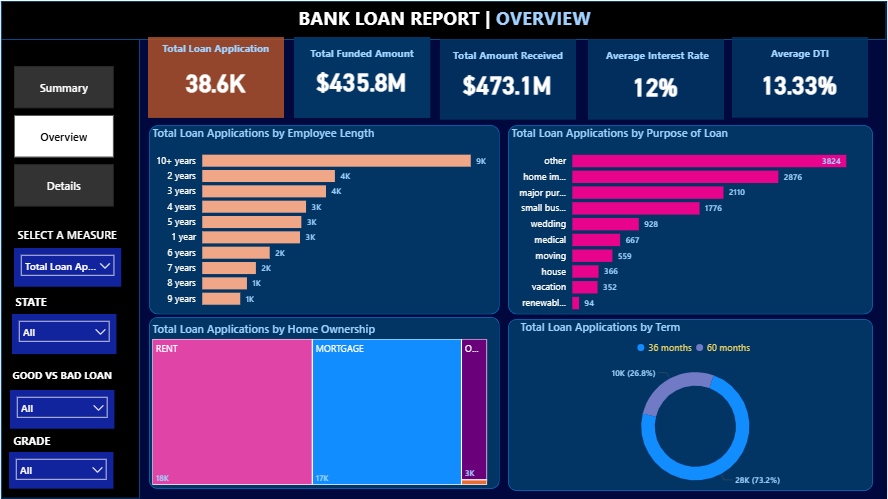

The page's visual inventory and layout, read from the dashboard file:
{"tool":"powerbi","page":{"name":"Overview","canvas":[1280,720],"ordinal":1},"visuals":[{"type":"shape","box":[1057,52.8,196.7,116.7],"z":0,"group":"g5"},{"type":"shape","box":[634.9,54.5,196.7,116.7],"z":0,"group":"g3"},{"type":"shape","box":[849.4,54.5,196.7,116.7],"z":0,"group":"g4"},{"type":"shape","box":[733.6,459.6,527.7,248.5],"z":0},{"type":"shape","box":[0,52.8,201,667.2],"z":1000},{"type":"shape","box":[423.8,52.8,196.7,116.7],"z":2000,"group":"g2"},{"type":"card","fields":{"Values":["financial_loan.Average DTI"]},"box":[1083.7,97.8,141.7,45],"z":2000,"group":"g5"},{"type":"card","fields":{"Values":["financial_loan.Average Interest Rate"]},"box":[876.1,99.5,141.7,45],"z":2000,"group":"g4"},{"type":"shape","box":[214.5,178.7,507.2,274],"z":2000},{"type":"shape","box":[0,0,1280,56],"z":3000},{"type":"textbox","box":[283.9,0,687,79],"z":4000},{"type":"textbox","box":[1057,59.5,196.7,33.3],"z":4000,"group":"g5"},{"type":"textbox","box":[849.4,61.2,196.7,33.3],"z":4000,"group":"g4"},{"type":"card","fields":{"Values":["financial_loan.Total Amount Received"]},"box":[661.6,96.2,141.7,45],"z":4000,"group":"g3"},{"type":"group","id":"g1","title":"Group 1","box":[212.8,52.8,197.4,117.4],"z":5000},{"type":"group","id":"g2","title":"Group 2","box":[423.8,52.8,197.4,117.4],"z":6000},{"type":"group","id":"g3","title":"Group 3","box":[634.9,54.5,195.7,117.4],"z":7000},{"type":"textbox","box":[634.9,61.2,196.7,33.3],"z":7000,"group":"g3"},{"type":"group","id":"g4","title":"Group 4","box":[849.4,54.5,195.7,117.4],"z":8000},{"type":"group","id":"g5","title":"Group 4","box":[1057,52.8,195.7,117.4],"z":9000},{"type":"card","fields":{"Values":["financial_loan.Total Funded Amount"]},"box":[448.8,86.1,145,58.3],"z":9000,"group":"g2"},{"type":"slicer","fields":{"Values":["financial_loan.Good vs Bad Loan"]},"box":[13.6,561.7,151.5,56.2],"z":10000},{"type":"textbox","box":[424.4,60,196.7,46.7],"z":11000,"group":"g2"},{"type":"textbox","box":[11.9,524.3,192.3,37.4],"z":11000},{"type":"shape","box":[212.8,52.8,196.7,117.4],"z":12000,"group":"g1"},{"type":"slicer","fields":{"Values":["financial_loan.grade"]},"box":[11.9,651.9,151.5,52.8],"z":12000},{"type":"card","fields":{"Values":["financial_loan.Total Loan Applications"]},"box":[226.1,89.5,168.3,55],"z":13000,"group":"g1"},{"type":"textbox","box":[13.6,619.6,115.7,32.3],"z":13000},{"type":"textbox","box":[213.5,53.1,196,35.2],"z":14000,"group":"g1"},{"type":"slicer","fields":{"Values":["financial_loan.address_state"]},"box":[15.3,452.8,151.5,57.9],"z":14000},{"type":"textbox","box":[15.3,418.7,98.7,34],"z":15000},{"type":"slicer","fields":{"Values":["Select A Measure.Select A Measure"]},"box":[18.7,357.4,154.9,56.2],"z":16000},{"type":"textbox","box":[18.7,321.7,160,39.1],"z":17000},{"type":"shape","box":[733.6,178.7,527.7,274],"z":18000},{"type":"donutChart","fields":{"Category":["financial_loan.term"],"Y":["financial_loan.Total Loan Applications"]},"box":[745.5,459.6,515.7,260.4],"z":19000},{"type":"shape","box":[214.5,456.2,507.2,248.5],"z":20000},{"type":"barChart","fields":{"Category":["financial_loan.emp_length"],"Y":["financial_loan.Total Loan Applications"]},"box":[214.5,178.7,493.6,274],"z":21000},{"type":"barChart","fields":{"Y":["financial_loan.Total Loan Applications"],"Category":["financial_loan.purpose"]},"box":[733.6,178.7,527.7,280.9],"z":21001},{"type":"treemap","fields":{"Group":["financial_loan.home_ownership"],"Values":["financial_loan.Total Loan Applications"]},"box":[214.5,463,493.6,241.7],"z":21002},{"type":"pageNavigator","box":[18.7,93.6,144.7,204.3],"z":21003}]}

Visuals, with their boxes in screenshot pixels (x1, y1, x2, y2), scaled from the page's 1280x720 canvas onto the 888x499 screenshot:
shape: locate(733, 37, 870, 117)
shape: locate(440, 38, 577, 119)
shape: locate(589, 38, 726, 119)
shape: locate(509, 319, 875, 491)
shape: locate(0, 37, 139, 498)
shape: locate(294, 37, 430, 117)
card - financial_loan.Average DTI: locate(752, 68, 850, 99)
card - financial_loan.Average Interest Rate: locate(608, 69, 706, 100)
shape: locate(149, 124, 501, 314)
shape: locate(0, 0, 887, 39)
textbox: locate(197, 0, 674, 55)
textbox: locate(733, 41, 870, 64)
textbox: locate(589, 42, 726, 65)
card - financial_loan.Total Amount Received: locate(459, 67, 557, 98)
"Group 1" group: locate(148, 37, 285, 118)
"Group 2" group: locate(294, 37, 431, 118)
"Group 3" group: locate(440, 38, 576, 119)
textbox: locate(440, 42, 577, 65)
"Group 4" group: locate(589, 38, 725, 119)
"Group 4" group: locate(733, 37, 869, 118)
card - financial_loan.Total Funded Amount: locate(311, 60, 412, 100)
slicer - financial_loan.Good vs Bad Loan: locate(9, 389, 115, 428)
textbox: locate(294, 42, 431, 74)
textbox: locate(8, 363, 142, 389)
shape: locate(148, 37, 284, 118)
slicer - financial_loan.grade: locate(8, 452, 113, 488)
card - financial_loan.Total Loan Applications: locate(157, 62, 274, 100)
textbox: locate(9, 429, 90, 452)
textbox: locate(148, 37, 284, 61)
slicer - financial_loan.address_state: locate(11, 314, 116, 354)
textbox: locate(11, 290, 79, 314)
slicer - Select A Measure.Select A Measure: locate(13, 248, 120, 287)
textbox: locate(13, 223, 124, 250)
shape: locate(509, 124, 875, 314)
donutChart - financial_loan.term x financial_loan.Total Loan Applications: locate(517, 319, 875, 498)
shape: locate(149, 316, 501, 488)
barChart - financial_loan.emp_length x financial_loan.Total Loan Applications: locate(149, 124, 491, 314)
barChart - financial_loan.Total Loan Applications x financial_loan.purpose: locate(509, 124, 875, 319)
treemap - financial_loan.home_ownership x financial_loan.Total Loan Applications: locate(149, 321, 491, 488)
pageNavigator: locate(13, 65, 113, 206)
